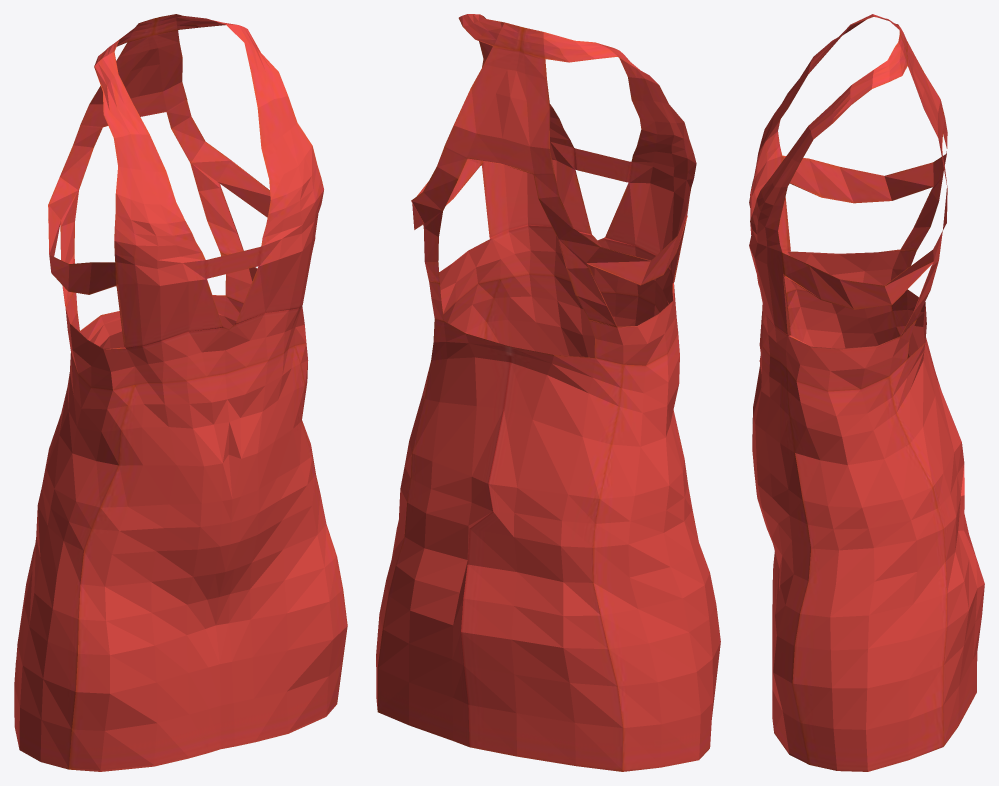
File: mhw_mindfront_f_dress_08.glb
3 renders of one model, left to right at view 1: azimuth 30°, elevation 25°; view 2: azimuth 150°, elevation 25°; view 3: azimuth 270°, elevation 25°, orthographic. The views are drawn at different scales.
Parts seen in each view (by area): view 1: mhw_mindfront_f_dress_08; view 2: mhw_mindfront_f_dress_08; view 3: mhw_mindfront_f_dress_08.
Part boxes in pixels (bbox=[...]): mhw_mindfront_f_dress_08: bbox=[14, 14, 347, 771]; mhw_mindfront_f_dress_08: bbox=[376, 14, 720, 771]; mhw_mindfront_f_dress_08: bbox=[749, 14, 984, 771].
Bounding box in the file's own units: 0.4424 × 0.94 × 0.3006.
1 material, 1 textured.
